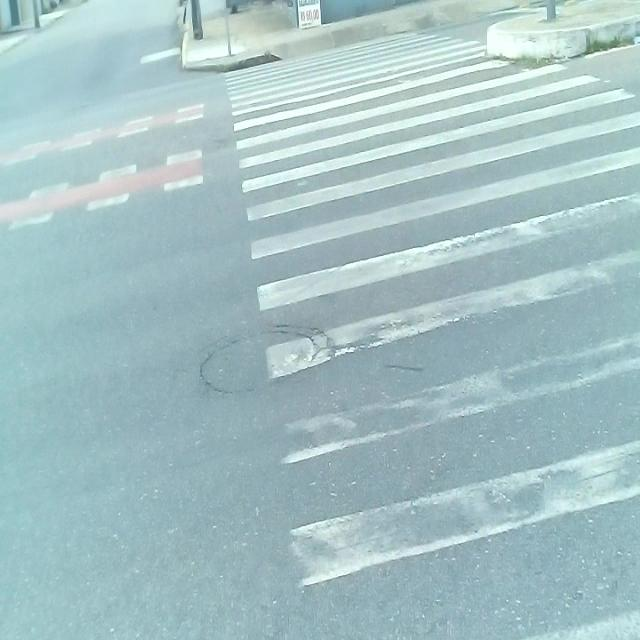crosswalk: (224, 28, 640, 640)
